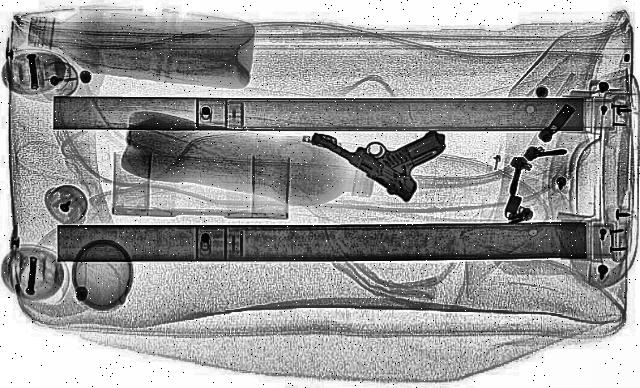Gun: (307, 101, 487, 203)
